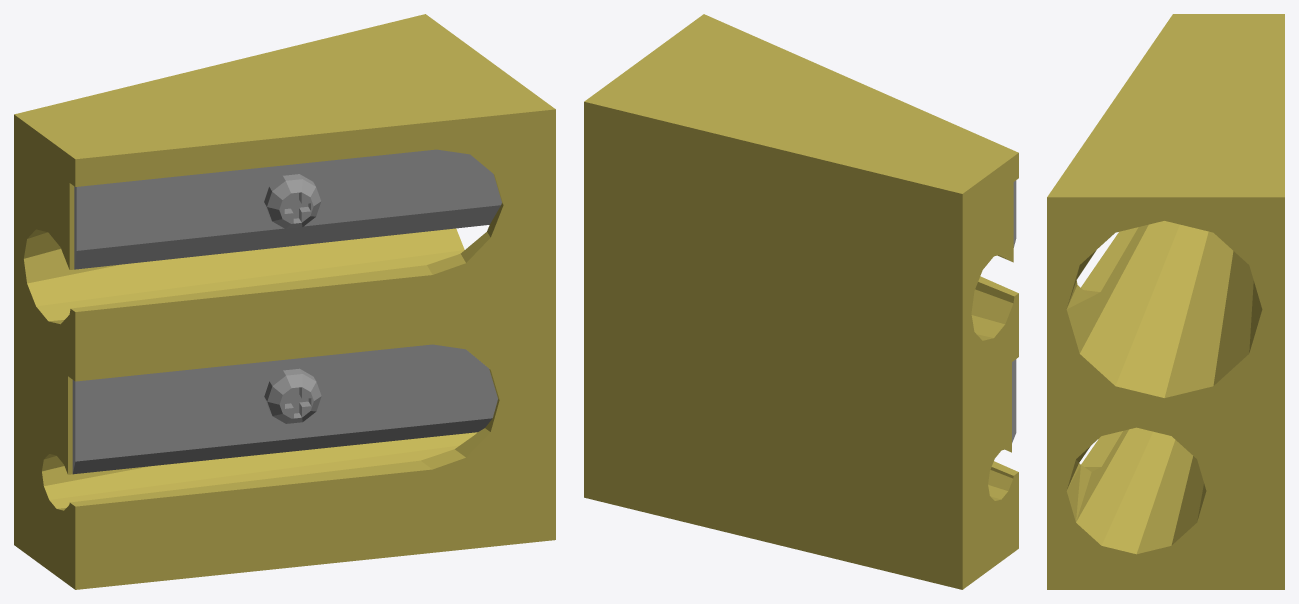
The picture shows the model from 3 angles, left to right: view 1: azimuth 30°, elevation 25°; view 2: azimuth 150°, elevation 25°; view 3: azimuth 270°, elevation 25°; orthographic projection. The views are drawn at different scales.
Parts seen in each view (by area): view 1: pencil sharpener; view 2: pencil sharpener; view 3: pencil sharpener.
Part boxes in pixels (x1,y1,x2,y2): pencil sharpener: (14, 14, 555, 589); pencil sharpener: (584, 14, 1018, 589); pencil sharpener: (1047, 14, 1284, 589).
Bounding box in the file's own units: 0.9688 × 0.9688 × 0.5312.
